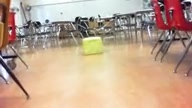cube: (82, 37, 103, 55)
